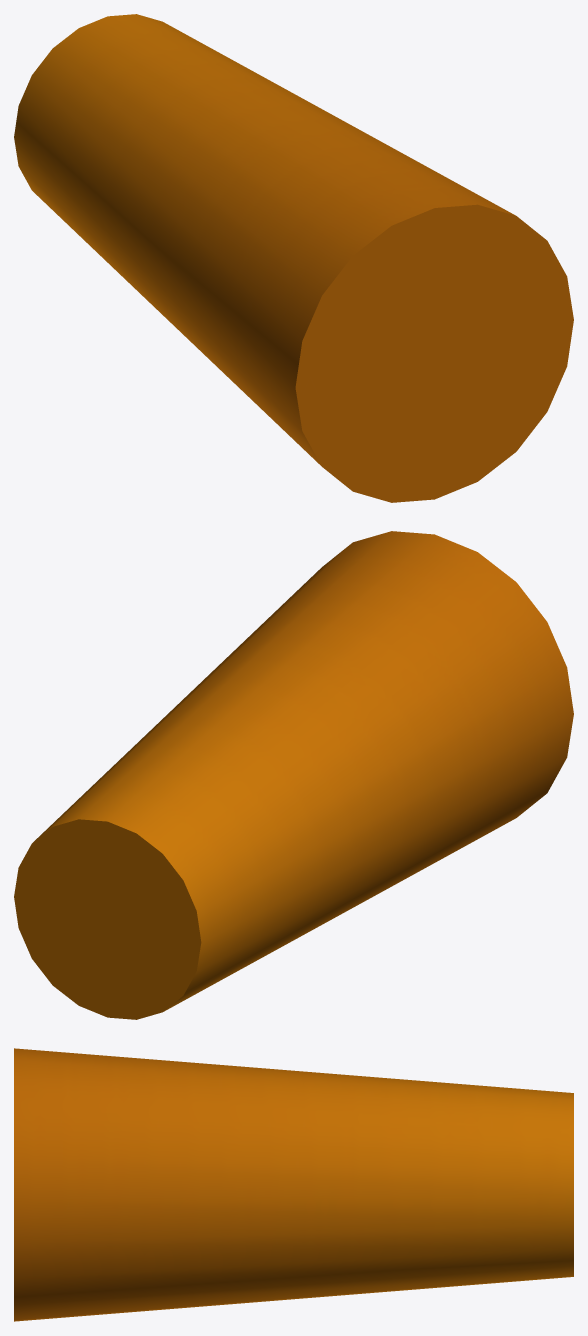
The model's file is carrot2_slices_4.fbx.
3 views of the same model, one above another, from view 1: azimuth 30°, elevation 25°; view 2: azimuth 150°, elevation 25°; view 3: azimuth 270°, elevation 25° (orthographic). The views are drawn at different scales.
Visible parts, largest first — view 1: carrot_2_slices.004; view 2: carrot_2_slices.004; view 3: carrot_2_slices.004.
Boxes of the visible parts, x1=… form: carrot_2_slices.004: x1=14, y1=14, x2=573, y2=502; carrot_2_slices.004: x1=14, y1=531, x2=573, y2=1019; carrot_2_slices.004: x1=14, y1=1048, x2=573, y2=1321.
Bounding box in the file's own units: 58.23 × 58.23 × 118.
